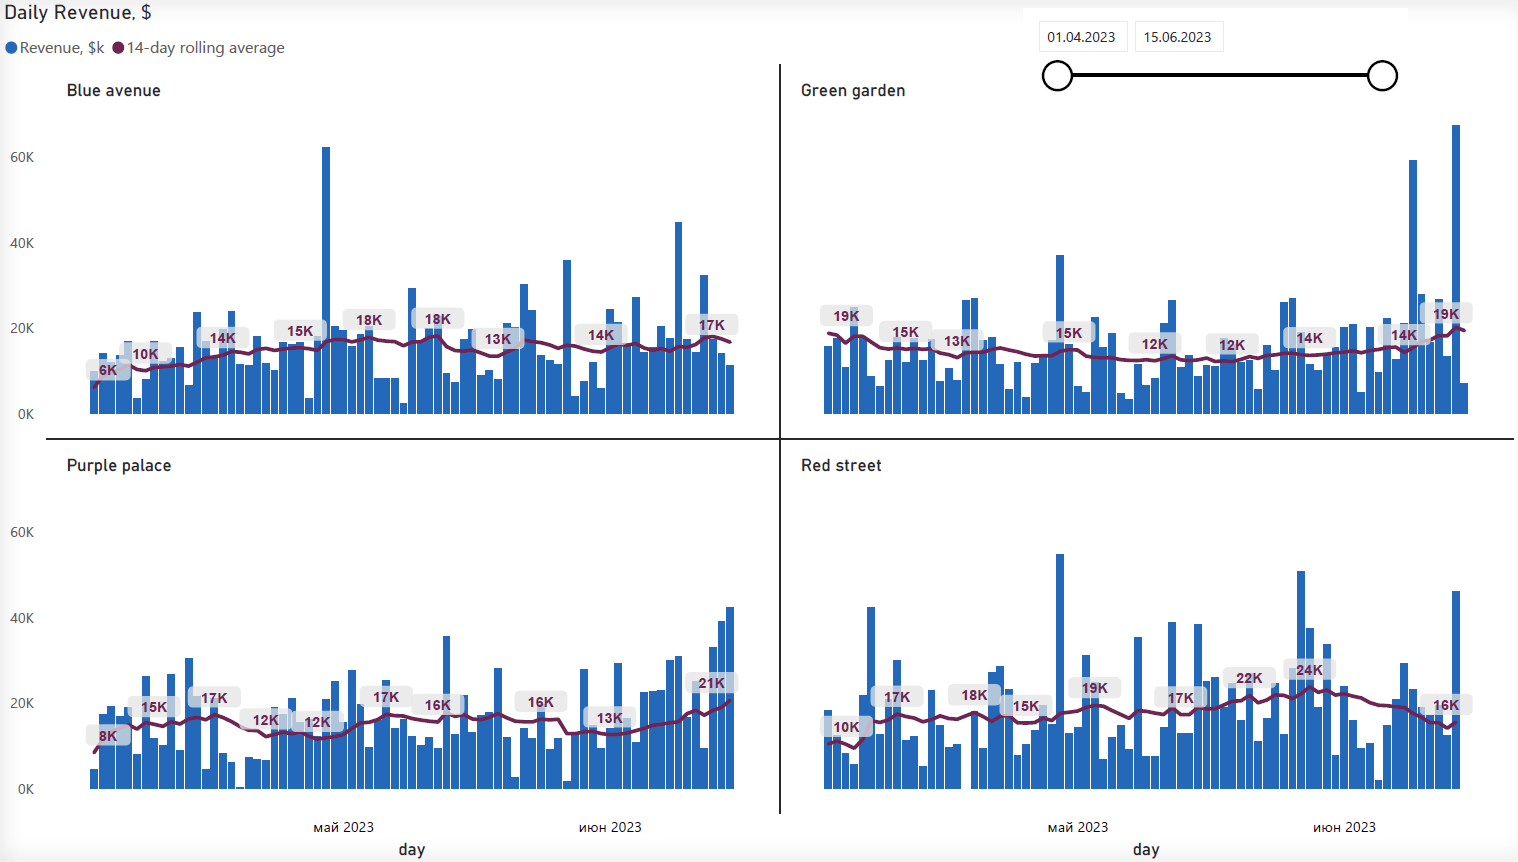

The page's visual inventory and layout, read from the dashboard file:
{"tool":"powerbi","page":{"name":"Revenue_by_zone","canvas":[1280,720],"ordinal":1},"visuals":[{"type":"lineStackedColumnComboChart","title":"Daily Revenue, $","fields":{"Rows":["zone_economy.delivery_zone"],"Y2":["zone_economy.Rolling Average Revenue per Zone"],"Category":["zone_economy.day"],"Y":["Sum(zone_economy.revenue)"]},"box":[0,0,1280,720],"z":3250},{"type":"slicer","fields":{"Values":["zone_economy.day"]},"box":[854,8,320,90],"z":3500}]}

Visuals, with their boxes in screenshot pixels (x1, y1, x2, y2), scaled from the page's 1280x720 canvas onto the 1518x862 screenshot:
"Daily Revenue, $" lineStackedColumnComboChart: [left=0, top=0, right=1517, bottom=861]
slicer - zone_economy.day: [left=1013, top=10, right=1392, bottom=117]
